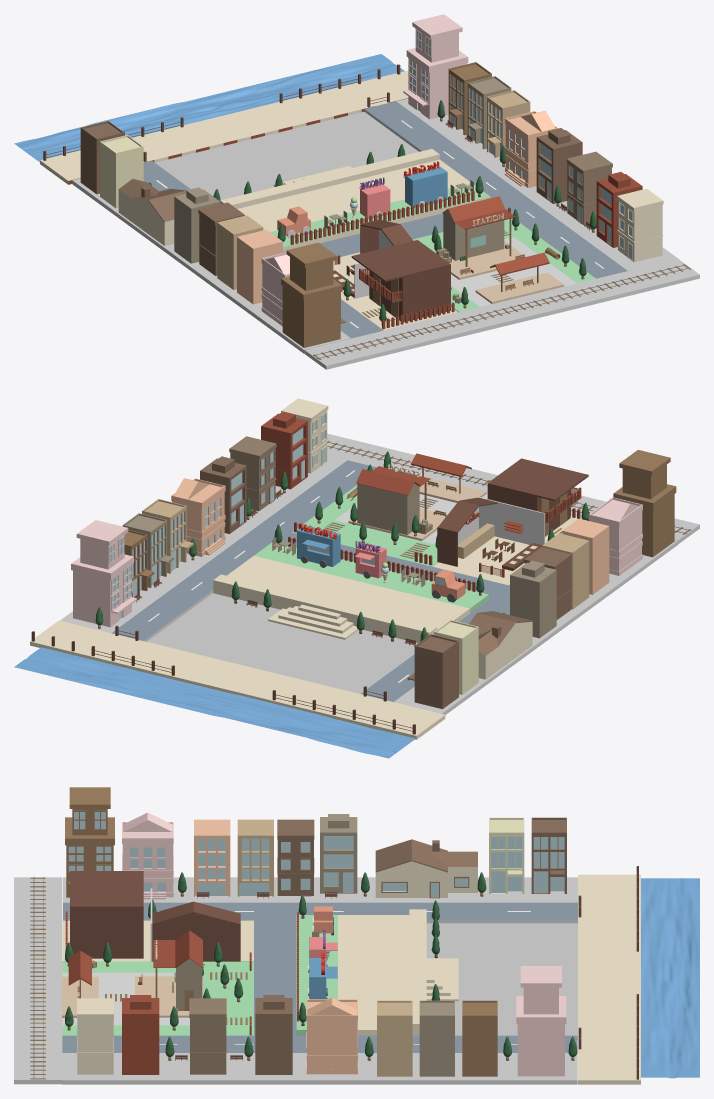
File: Photharam.fbx
3 renders of one model, top to bottom at view 1: azimuth 30°, elevation 25°; view 2: azimuth 150°, elevation 25°; view 3: azimuth 270°, elevation 25°, orthographic. The views are drawn at different scales.
Visible parts, largest first — view 1: Plane.002, Plane.001, Cube.003, Cube, Plane, Cube.007, Cube.088, Cube.059, Cube.084, Cube.089, Cube.090, Cube.083 (+23 smaller); view 2: Plane.002, Cube.003, Cube, Plane, Cube.007, Plane.001, Cube.089, Cube.006, Cube.090, Cube.084, Cube.088, Cube.059 (+22 smaller); view 3: Plane.002, Plane.001, Cube, Plane, Cube.003, Cube.007, Cube.084, Cube.059, Cube.083, Cube.090, Cube.087, Cube.089 (+21 smaller).
Part boxes in pixels (left/top/right/bottom): Plane.002: left=72, top=98, right=678, bottom=353; Plane.001: left=304, top=218, right=699, bottom=369; Cube.003: left=155, top=112, right=418, bottom=200; Cube: left=40, top=70, right=408, bottom=184; Plane: left=14, top=54, right=404, bottom=162; Cube.007: left=237, top=159, right=490, bottom=252; Cube.088: left=281, top=242, right=345, bottom=347; Cube.059: left=351, top=240, right=450, bottom=322; Cube.084: left=448, top=62, right=530, bottom=157; Cube.089: left=403, top=14, right=468, bottom=119; Cube.090: left=80, top=121, right=143, bottom=208; Cube.083: left=217, top=215, right=282, bottom=304; Plane.002: left=60, top=455, right=677, bottom=714; Cube.003: left=147, top=593, right=417, bottom=693; Cube: left=30, top=620, right=445, bottom=739; Plane: left=14, top=647, right=415, bottom=758; Cube.007: left=227, top=542, right=488, bottom=628; Plane.001: left=292, top=433, right=699, bottom=566; Cube.089: left=71, top=520, right=136, bottom=627; Cube.006: left=213, top=574, right=437, bottom=643; Cube.090: left=407, top=620, right=478, bottom=709; Cube.084: left=122, top=499, right=193, bottom=597; Cube.088: left=613, top=450, right=676, bottom=557; Cube.059: left=487, top=458, right=588, bottom=532; Plane.002: left=62, top=877, right=577, bottom=1084; Plane.001: left=14, top=877, right=253, bottom=1084; Cube: left=578, top=874, right=640, bottom=1084; Plane: left=641, top=878, right=699, bottom=1078; Cube.003: left=426, top=923, right=577, bottom=1039; Cube.007: left=296, top=915, right=409, bottom=1035; Cube.084: left=377, top=1000, right=497, bottom=1076; Cube.059: left=70, top=871, right=143, bottom=958; Cube.083: left=194, top=819, right=273, bottom=896; Cube.090: left=489, top=817, right=566, bottom=893; Cube.087: left=375, top=839, right=477, bottom=898; Cube.089: left=516, top=966, right=566, bottom=1076.
Size of the model in its own units: 6041 by 1345 by 8521.
